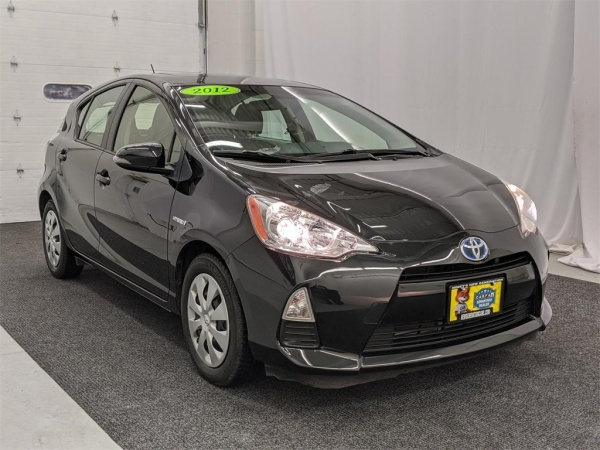Toyota Prius: (36, 71, 553, 396)
